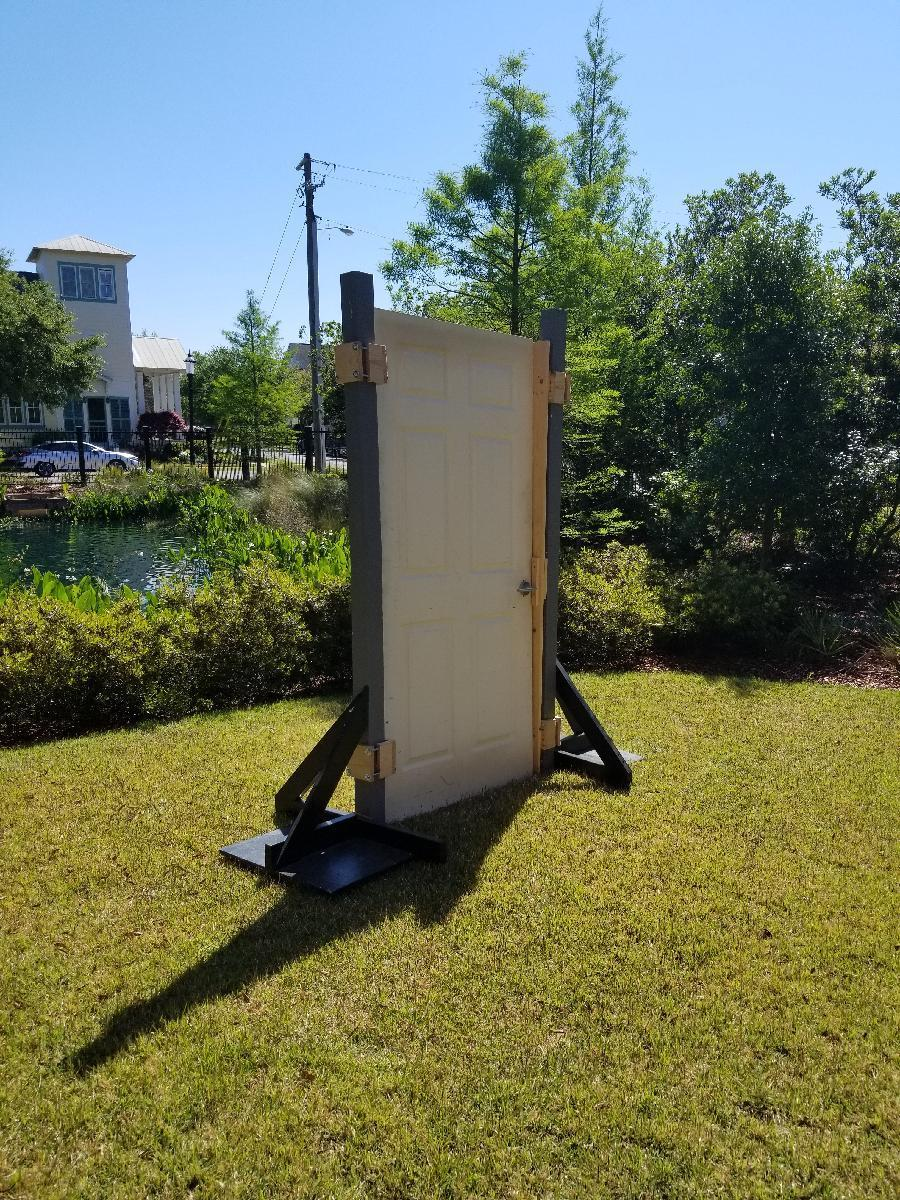door: (380, 308, 546, 819)
handle: (514, 578, 536, 598)
